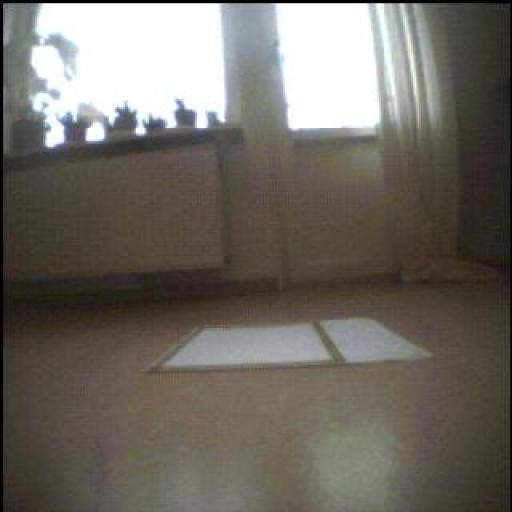Pad: (150, 320, 431, 373)
